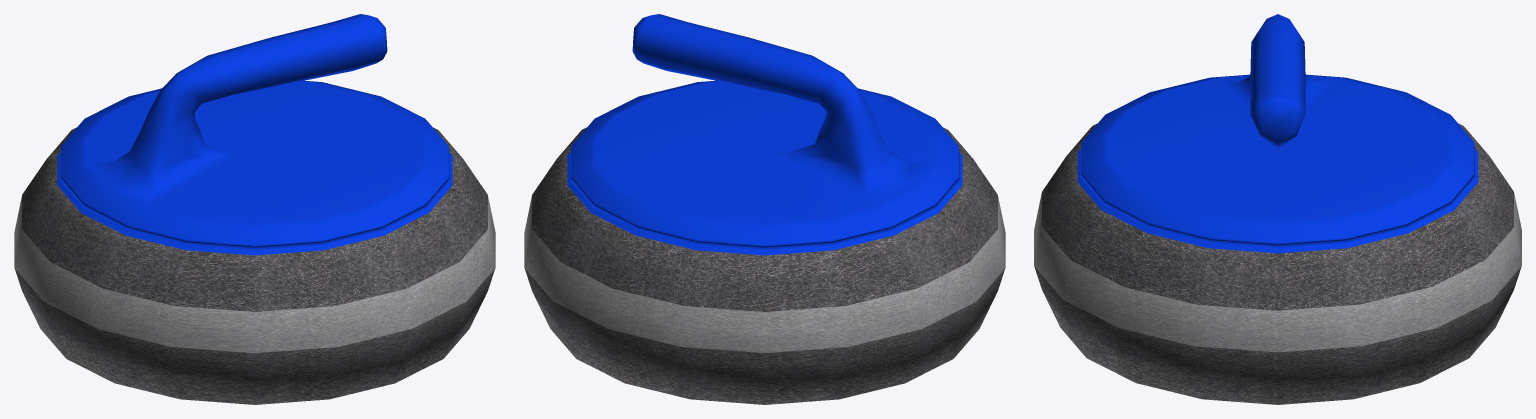
The model's file is Stone_blue.fbx.
3 views of the same model, side by side, from view 1: azimuth 30°, elevation 25°; view 2: azimuth 150°, elevation 25°; view 3: azimuth 270°, elevation 25° (orthographic).
Parts seen in each view (by area): view 1: pCylinder3; view 2: pCylinder3; view 3: pCylinder3.
Part boxes in pixels (x1,y1,x2,y2): pCylinder3: (14, 14, 495, 404); pCylinder3: (524, 14, 1005, 404); pCylinder3: (1034, 14, 1521, 404).
Bounding box in the file's own units: 0.2191 × 0.1335 × 0.2158.
Materials: 4 (2 with a texture image).
